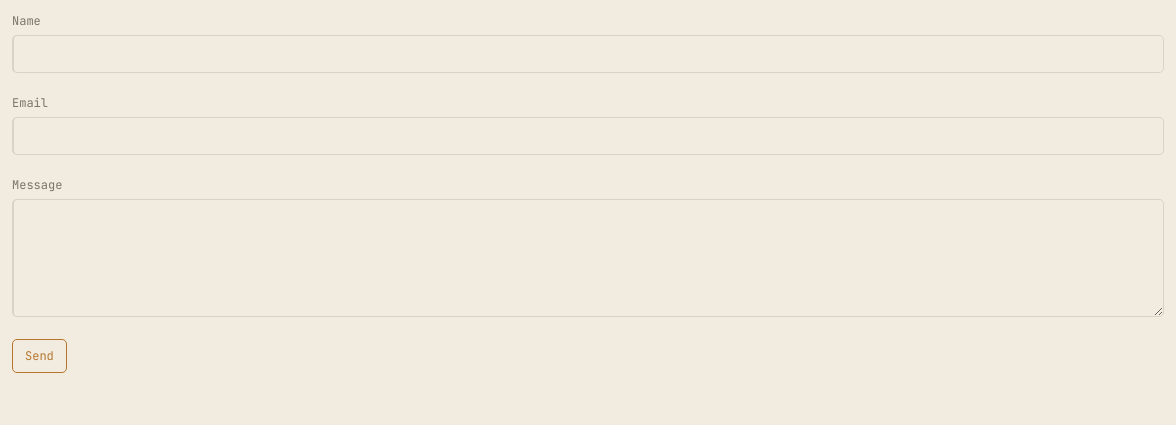
Scenario: ContactForm › submits the form and shows the success message
The width and height of the screenshot is (1176, 425).
Type "Jane" into the field labelled "Name" at (588,54), box [12,35,1164,73]
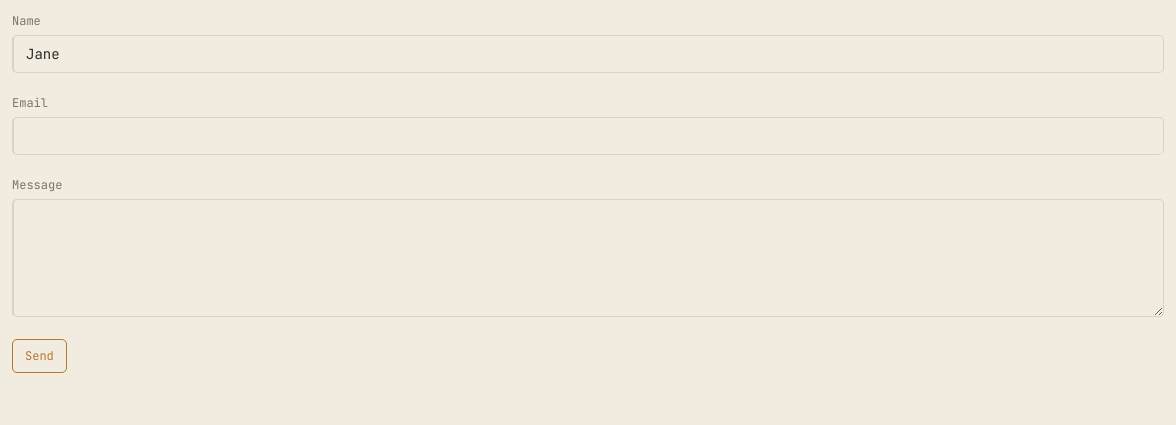
Type "jane@example.com" into the field labelled "Email" at (588,136), box [12,117,1164,155]
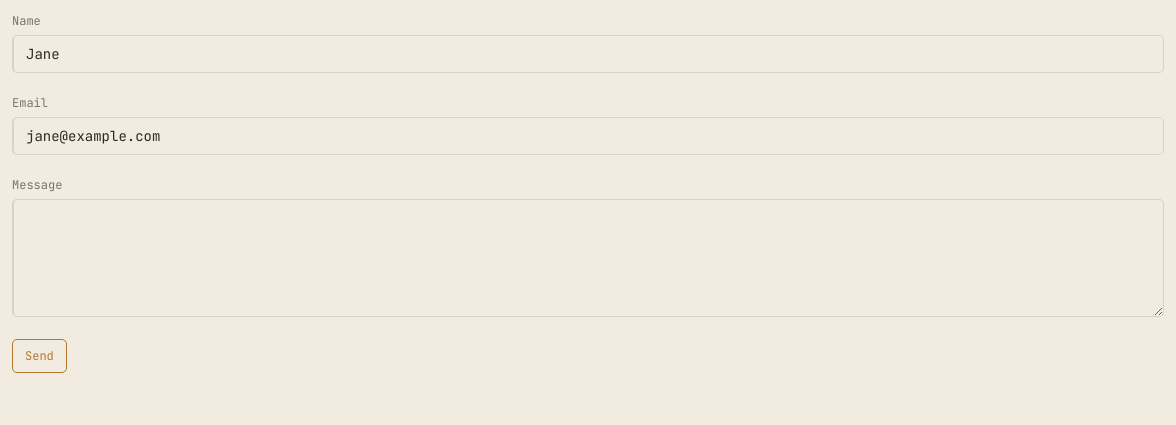
Type "Hi there" into the text box labelled "Message" at (588,258), box [12,199,1164,317]
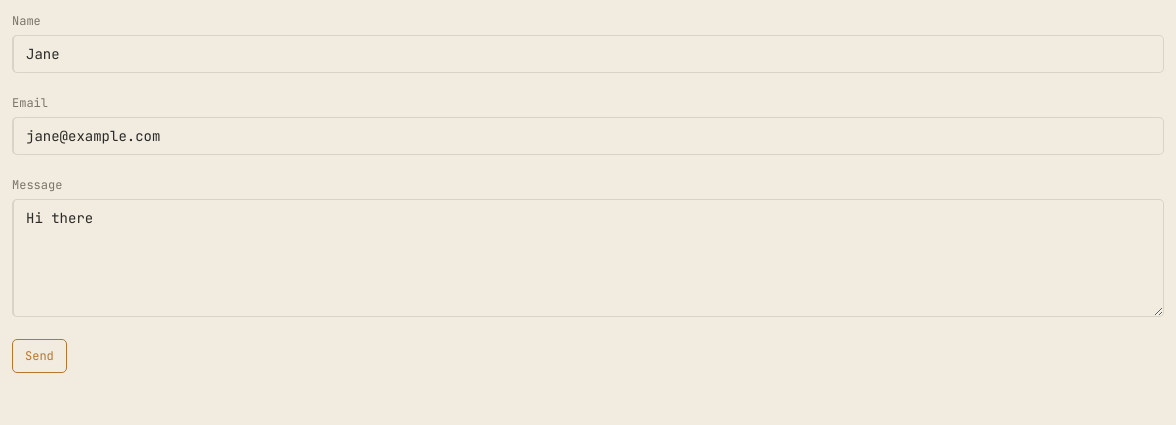
Click the button "Send" at (39,356), box [12,339,67,373]
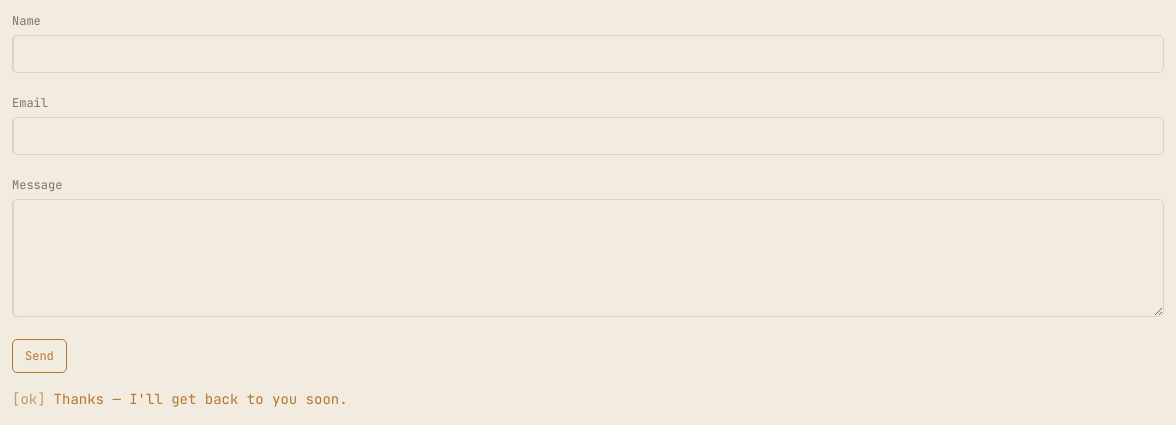
Expected: the text "[ok]Thanks — I'll get back to you soon." is shown, [12,390,348,408]
